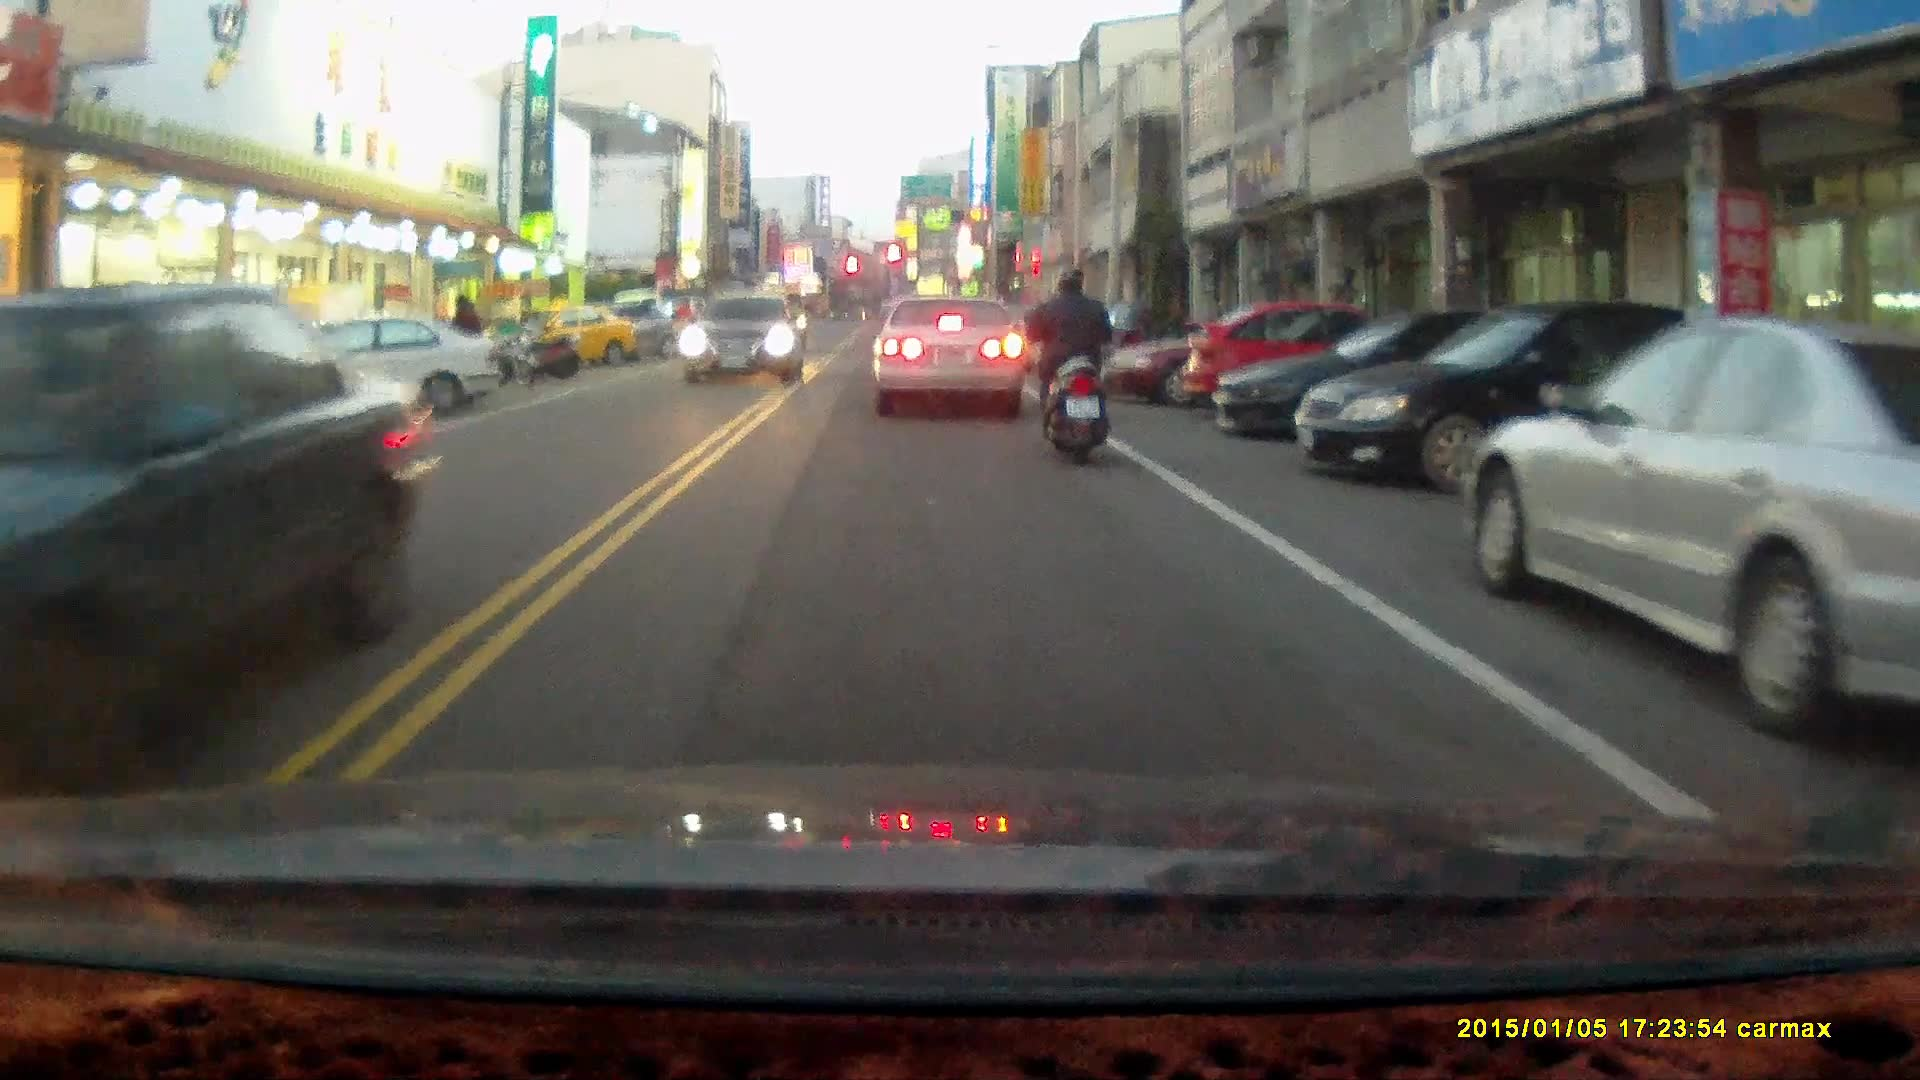pedestrian: (448, 291, 482, 369)
rider: (1024, 258, 1117, 464), (667, 293, 700, 364)
vehicle: (1, 280, 437, 793), (1464, 316, 1920, 748), (1292, 299, 1691, 493), (1210, 308, 1594, 451), (242, 305, 497, 424), (1178, 302, 1420, 424), (1102, 305, 1398, 404), (870, 290, 1025, 416), (683, 289, 806, 389), (519, 295, 641, 368)
